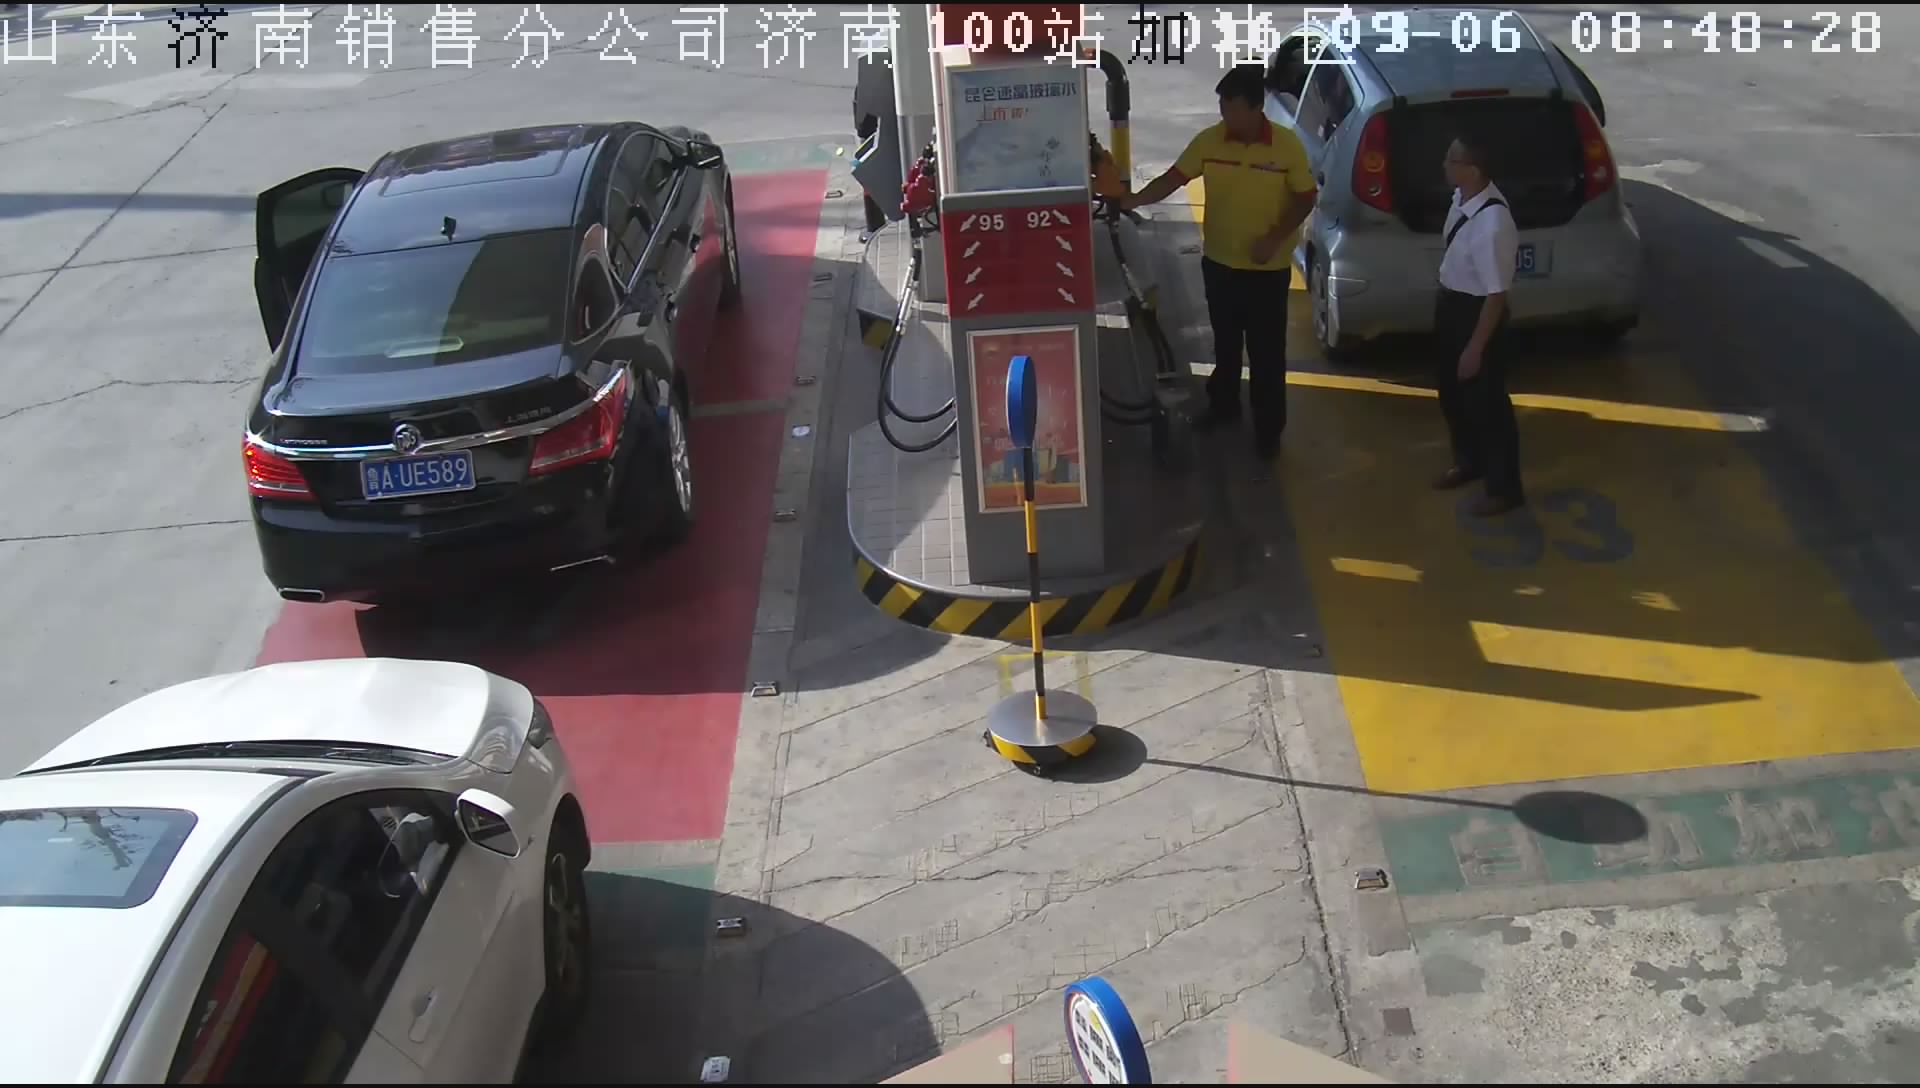blue: (357, 452, 477, 504)
